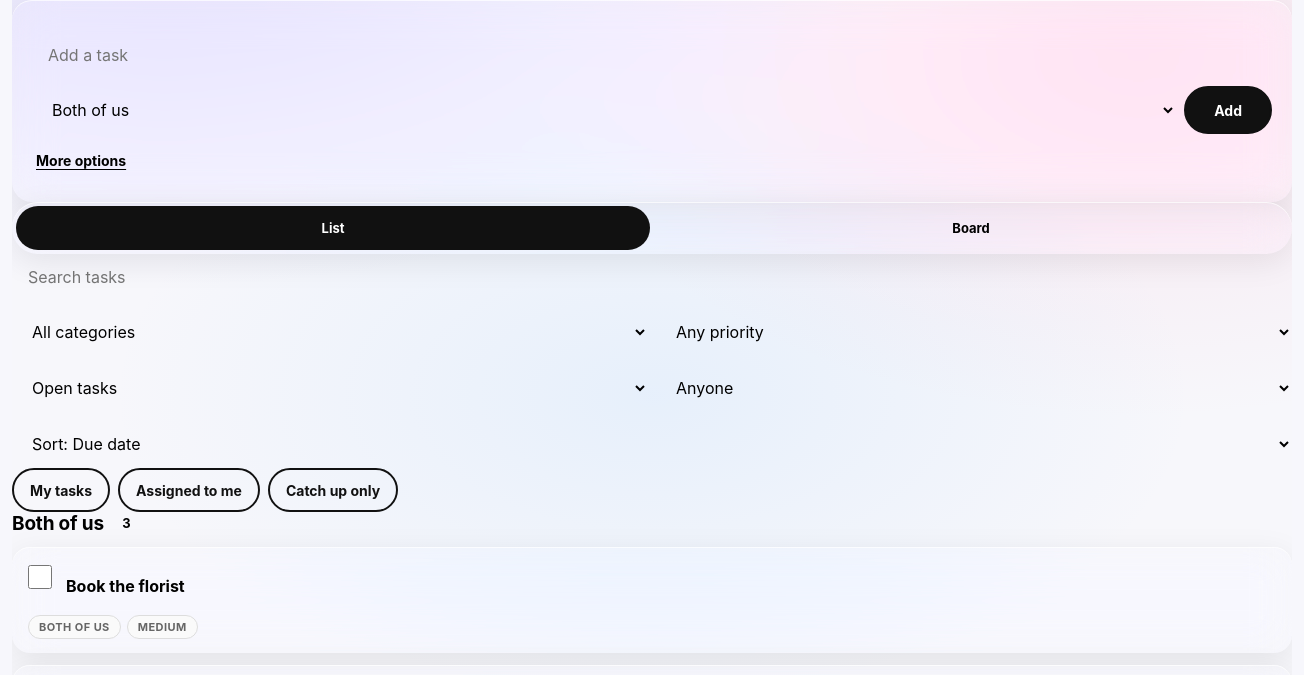
Test: assign to › lists the couple and helpers, with "Nobody in particular" first
Click the button "More options": x=81, y=160 [32, 138, 130, 182]
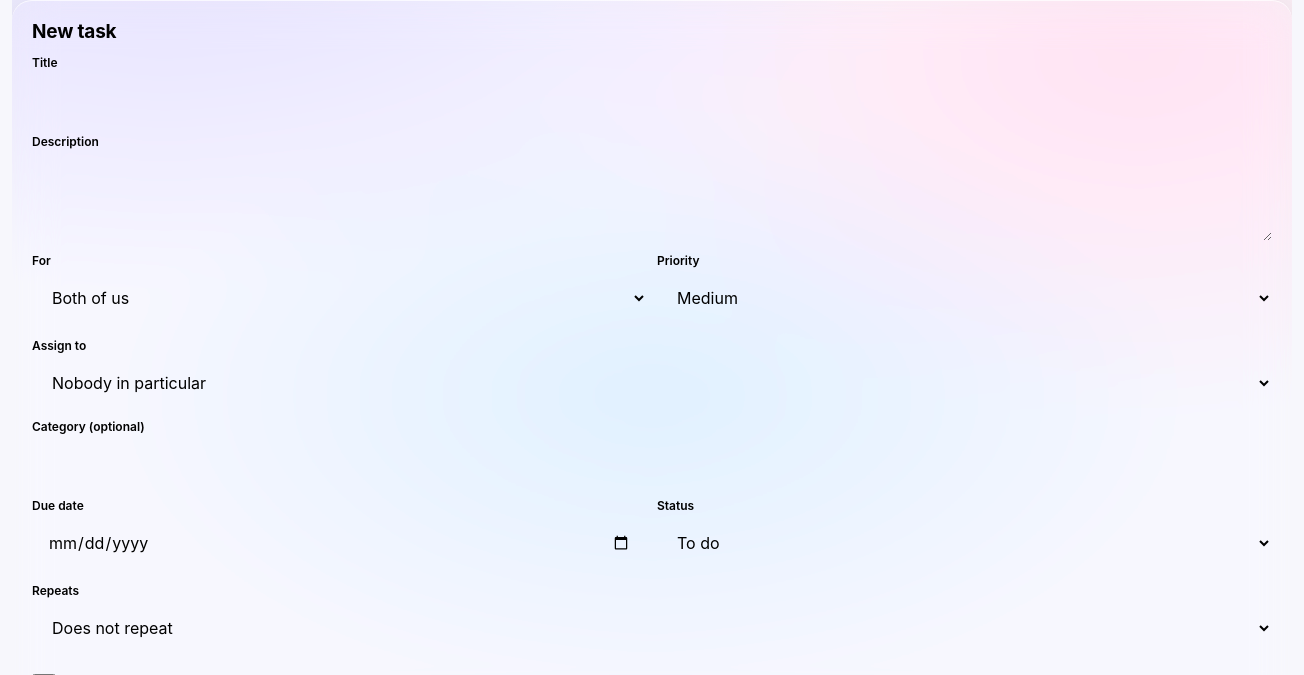
Result: the dropdown labelled "Assign to" shows "Nobody in particular" at [32, 359, 1272, 407]
